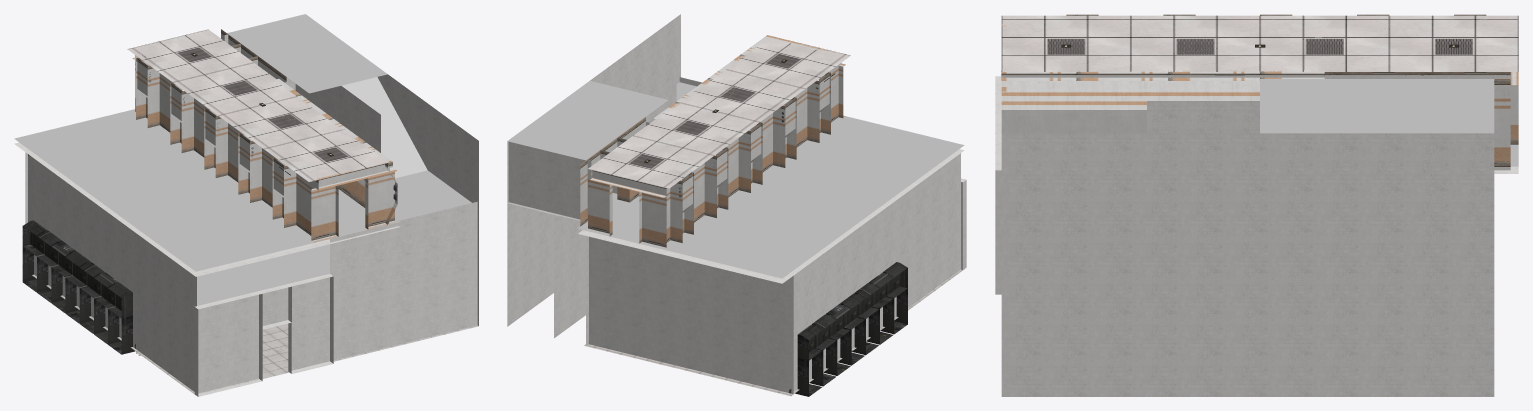
Rendered from RZ_room2_servers.obj.
3 views of the same model, side by side, from view 1: azimuth 30°, elevation 25°; view 2: azimuth 150°, elevation 25°; view 3: azimuth 270°, elevation 25° (orthographic). The views are drawn at different scales.
Visible parts, largest first — view 1: RZ_room2_servers; view 2: RZ_room2_servers; view 3: RZ_room2_servers.
Part boxes in pixels (x1,y1,x2,y2): RZ_room2_servers: [14, 14, 478, 396]; RZ_room2_servers: [507, 14, 966, 396]; RZ_room2_servers: [995, 14, 1518, 396].
Size of the model in its own units: 18.98 by 11.86 by 20.73.
